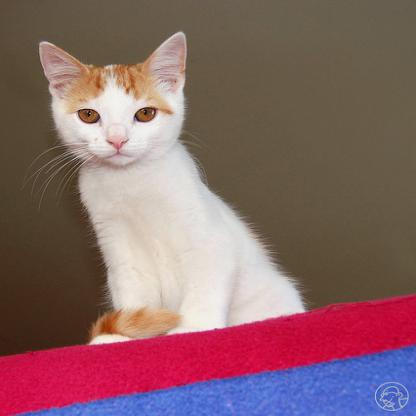cat: (37, 31, 309, 344)
